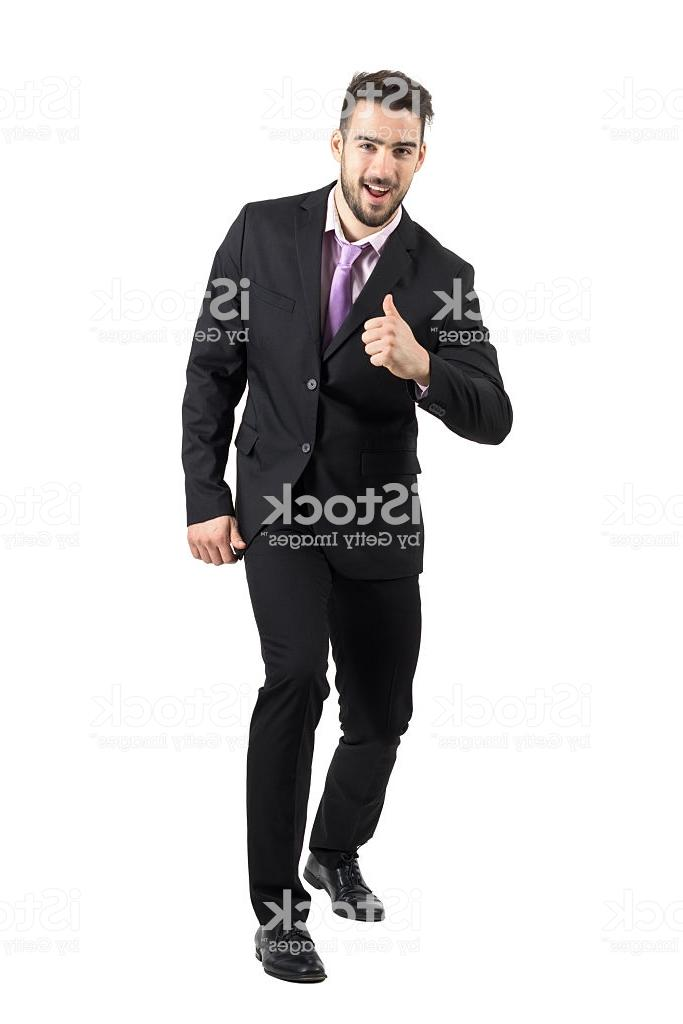thumbsup: (360, 292, 419, 377)
